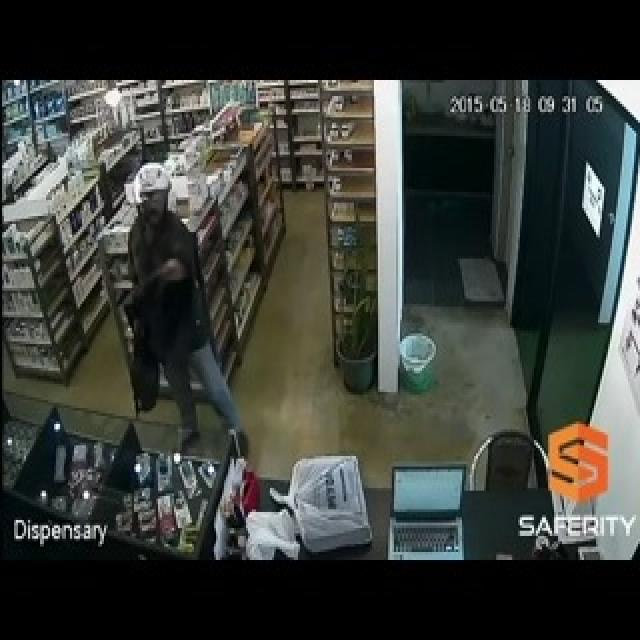thief: (112, 172, 250, 432)
